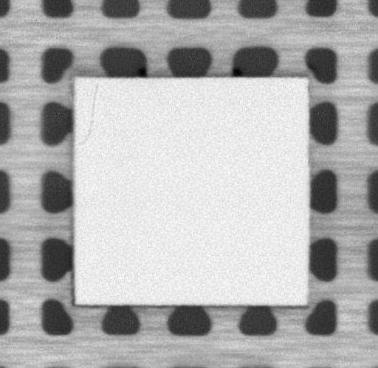DIE_CRACK: (81, 83, 99, 146)
